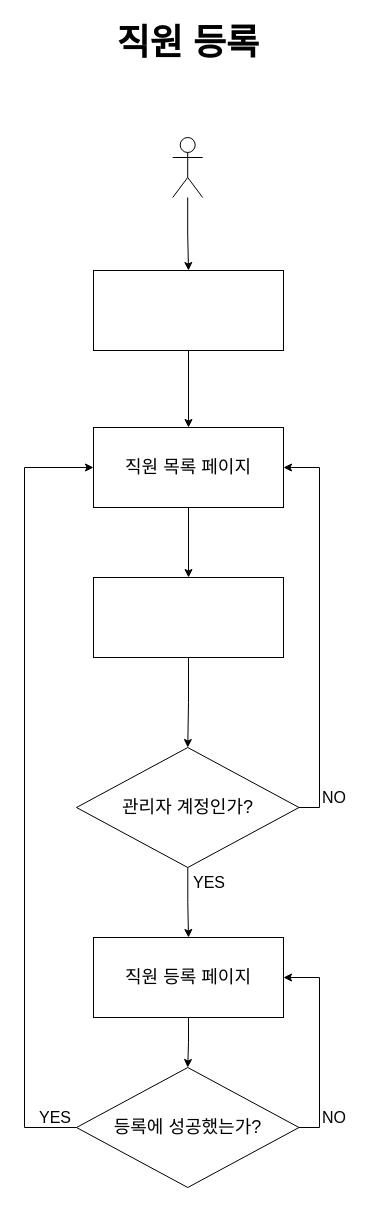
Image size: 372x1205. Some labels were removed from this diagram. The shapes that lost their labels are listed below. From the top down, each one's box as (x1, y1, x2, y2) in pixels, then its label:
(92, 270, 284, 350): 로그인
(92, 576, 284, 658): 직원 등록 버튼 클릭
